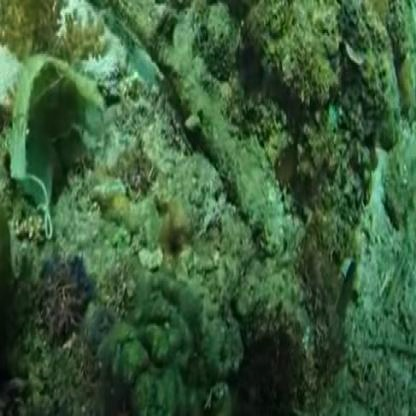misc: (13, 64, 122, 220)
